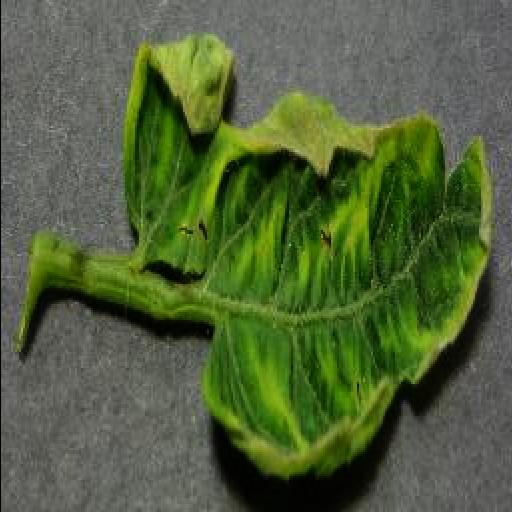disease_tomato: (122, 30, 494, 480)
